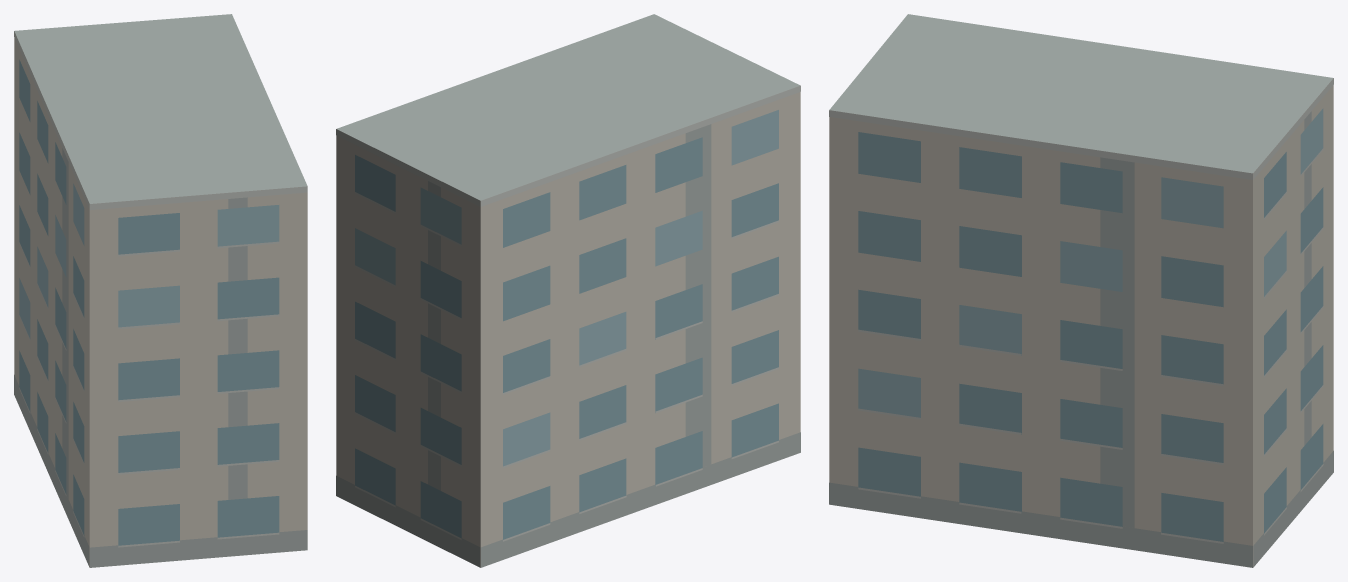
Rendered from survey-upis-32893548.glb.
3 views of the same model, side by side, from view 1: azimuth 30°, elevation 25°; view 2: azimuth 150°, elevation 25°; view 3: azimuth 270°, elevation 25° (orthographic). The views are drawn at different scales.
Visible parts, largest first — view 1: survey-upis-32893548.tmp; view 2: survey-upis-32893548.tmp; view 3: survey-upis-32893548.tmp.
Part boxes in pixels (x1,y1,x2,y2): survey-upis-32893548.tmp: [14, 14, 307, 567]; survey-upis-32893548.tmp: [336, 14, 800, 567]; survey-upis-32893548.tmp: [829, 14, 1333, 567].
Size of the model in its own units: 12.41 by 14.3 by 16.59.
